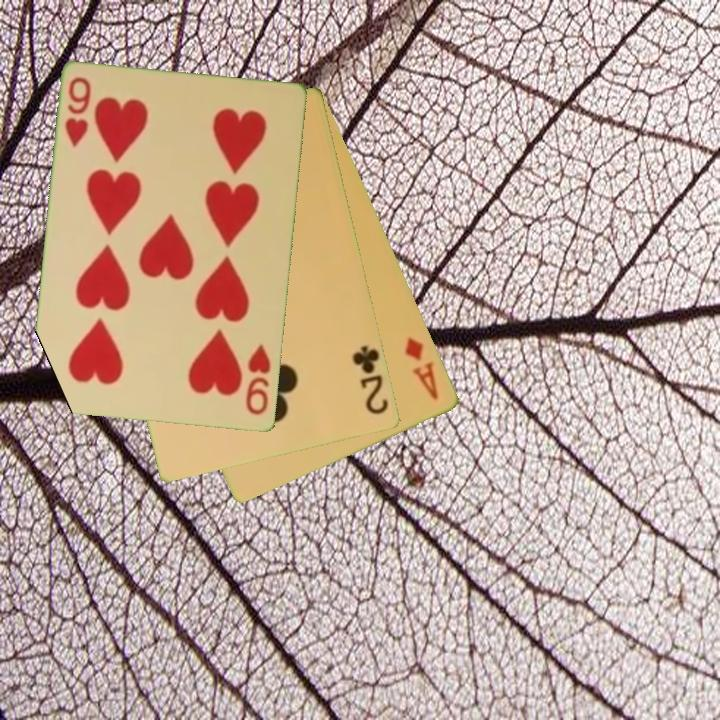2c: (349, 342, 392, 418)
9h: (242, 341, 275, 419), (62, 74, 95, 150)
Ad: (401, 333, 442, 403)
